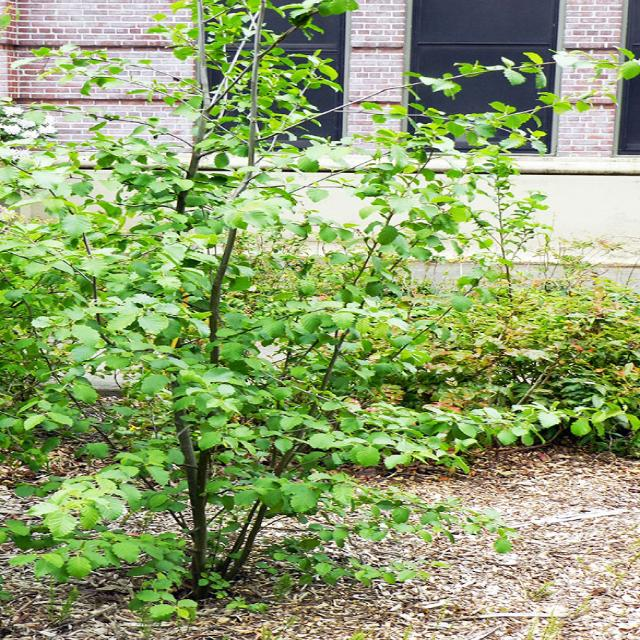Alnus tenuifolia: (33, 0, 635, 612)
